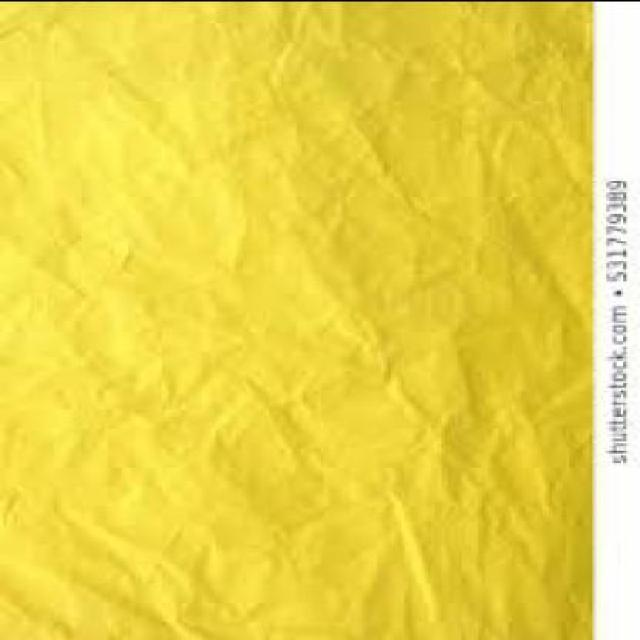paper: (0, 1, 592, 638)
